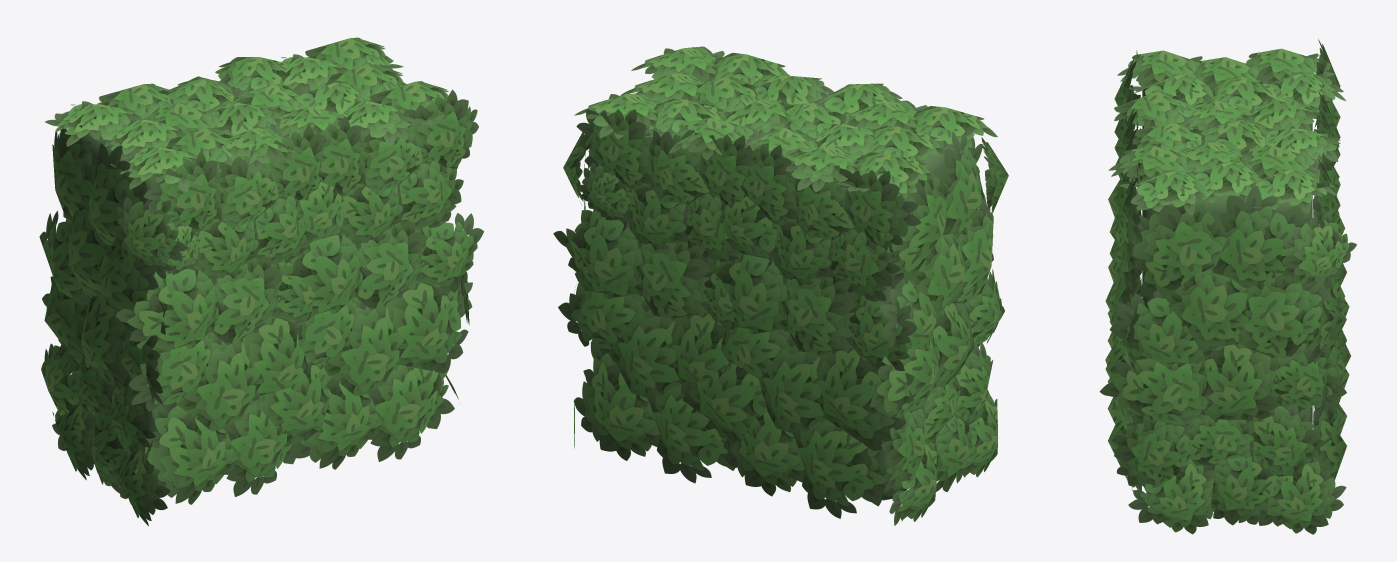
The model's file is hedge.glb.
The picture shows the model from 3 angles, left to right: view 1: azimuth 30°, elevation 25°; view 2: azimuth 150°, elevation 25°; view 3: azimuth 270°, elevation 25°; orthographic projection. The views are drawn at different scales.
Visible parts, largest first — view 1: Bush_2x2; view 2: Bush_2x2; view 3: Bush_2x2.
Part boxes in pixels (left/top/right/bottom): Bush_2x2: left=39, top=37, right=483, bottom=525; Bush_2x2: left=553, top=46, right=1008, bottom=525; Bush_2x2: left=1099, top=39, right=1356, bottom=534.
Bounding box in the file's own units: 1.8 × 1.63 × 1.19.
Materials: 1 (1 with a texture image).
